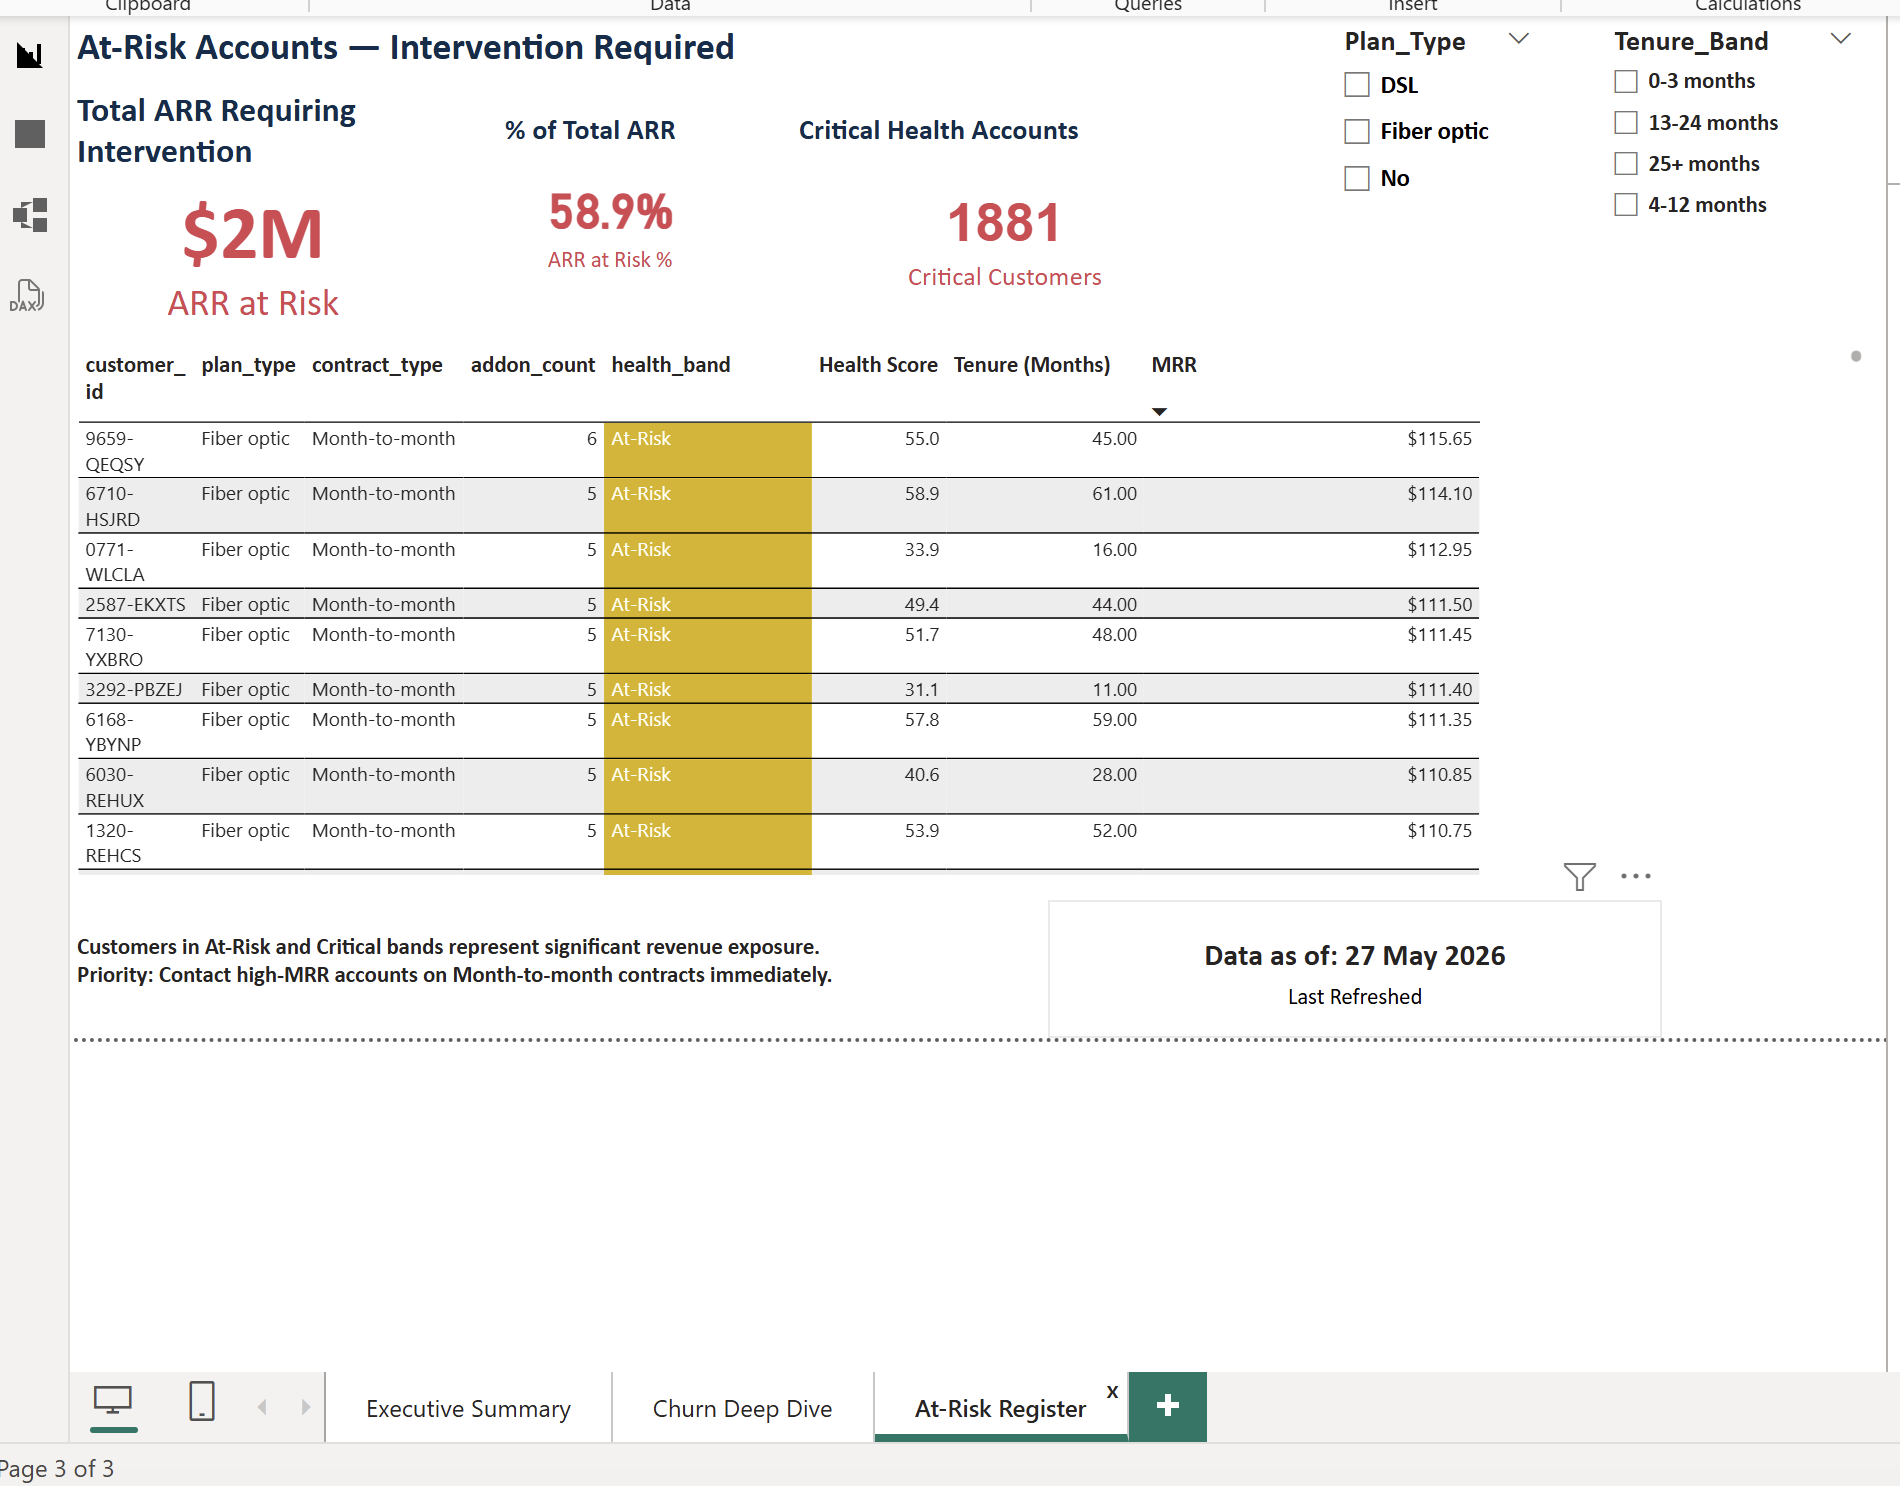

The page's visual inventory and layout, read from the dashboard file:
{"tool":"powerbi","page":{"name":"At-Risk Register","canvas":[1280,720],"ordinal":2},"visuals":[{"type":"textbox","box":[0,0,1280,720.4],"z":0},{"type":"card","title":"Total ARR Requiring Intervention","fields":{"Values":["_measures.ARR at Risk"]},"box":[0,50.7,258,167.8],"z":1},{"type":"card","title":"% of Total ARR","fields":{"Values":["_measures.ARR at Risk %"]},"box":[301.7,67.7,157.9,129.7],"z":2},{"type":"card","title":"Critical Health Accounts","fields":{"Values":["_dim_date.Critical Customers"]},"box":[508.9,67.7,300.3,150.8],"z":3},{"type":"tableEx","fields":{"Values":["fact_customers.customer_id","fact_customers.plan_type","fact_customers.contract_type","fact_customers.addon_count","fact_customers.health_band","Avg(fact_customers.health_score_raw)","Avg(fact_customers.Tenure (Months))","Sum(fact_customers.mrr)"]},"box":[0,229.8,1268.7,380.6],"z":4},{"type":"slicer","fields":{"Values":["fact_customers.plan_type"]},"box":[885.3,0,156.5,169.2],"z":5},{"type":"slicer","fields":{"Values":["fact_customers.tenure_band"]},"box":[1075.6,0,193.1,169.2],"z":6},{"type":"textbox","box":[0,641.4,679.5,78.9],"z":7},{"type":"card","fields":{"Values":["_measures.Last Refreshed"]},"box":[689.3,623.1,432.8,97.3],"z":8}]}

Visuals, with their boxes on the page's 1280x720 design canvas (x1, y1, x2, y2). These are canvas units, not pixel positions in the 1900x1486 screenshot, which may show the page scaled, cropped or inside an application window:
textbox: bbox(0, 0, 1280, 720)
"Total ARR Requiring Intervention" card: bbox(0, 51, 258, 218)
"% of Total ARR" card: bbox(302, 68, 460, 197)
"Critical Health Accounts" card: bbox(509, 68, 809, 218)
tableEx - fact_customers.customer_id x fact_customers.plan_type: bbox(0, 230, 1269, 610)
slicer - fact_customers.plan_type: bbox(885, 0, 1042, 169)
slicer - fact_customers.tenure_band: bbox(1076, 0, 1269, 169)
textbox: bbox(0, 641, 680, 720)
card - _measures.Last Refreshed: bbox(689, 623, 1122, 720)
